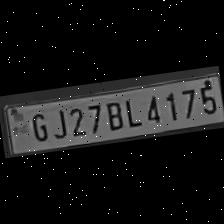1: (158, 88, 181, 124)
2: (64, 102, 89, 138)
4: (138, 90, 164, 127)
5: (195, 80, 220, 116)
7: (82, 100, 104, 135), (176, 86, 198, 121)
B: (102, 97, 126, 131)
G: (27, 109, 50, 144)
J: (48, 105, 68, 140)
L: (120, 94, 142, 128)
